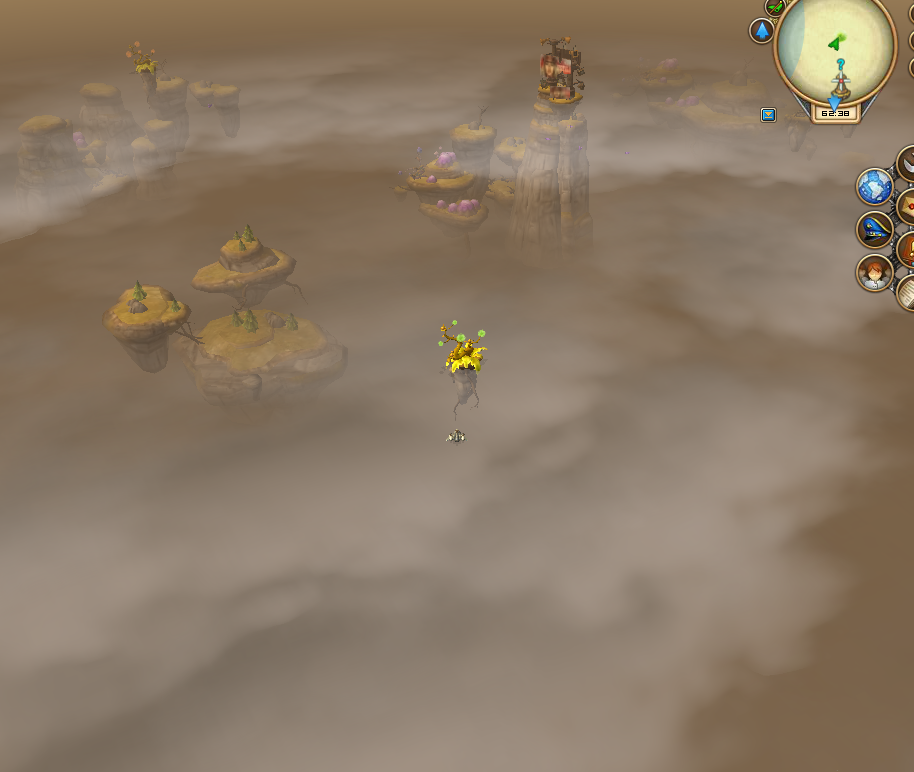dandelion-full: (435, 308, 490, 397), (122, 36, 162, 87)
